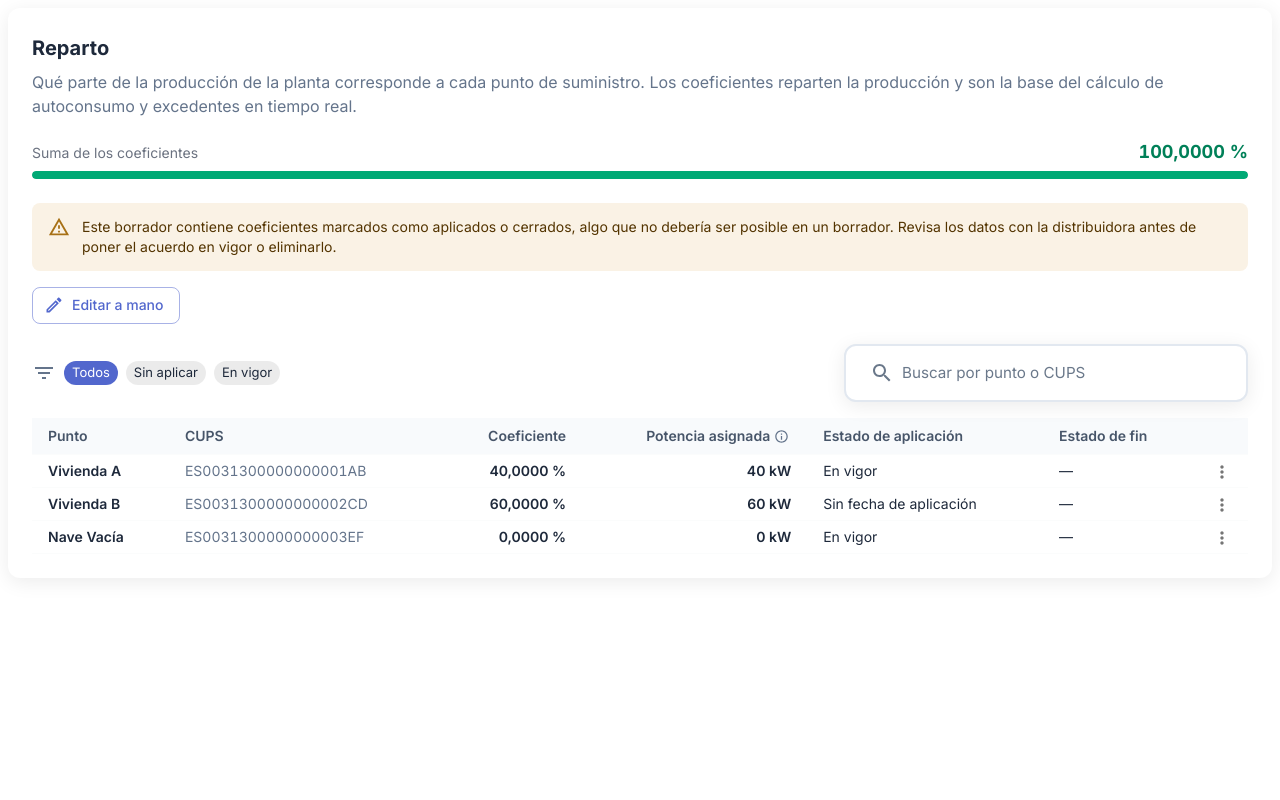
Scenario: SharingAgreementCoefficientSet (DRAFT editing) › UI-AGR-001 typing a value updates the live sum before anything is saved
The image size is (1280, 800).
Click the button "Editar a mano" at coordinates (106, 305), box [32,287,180,324]
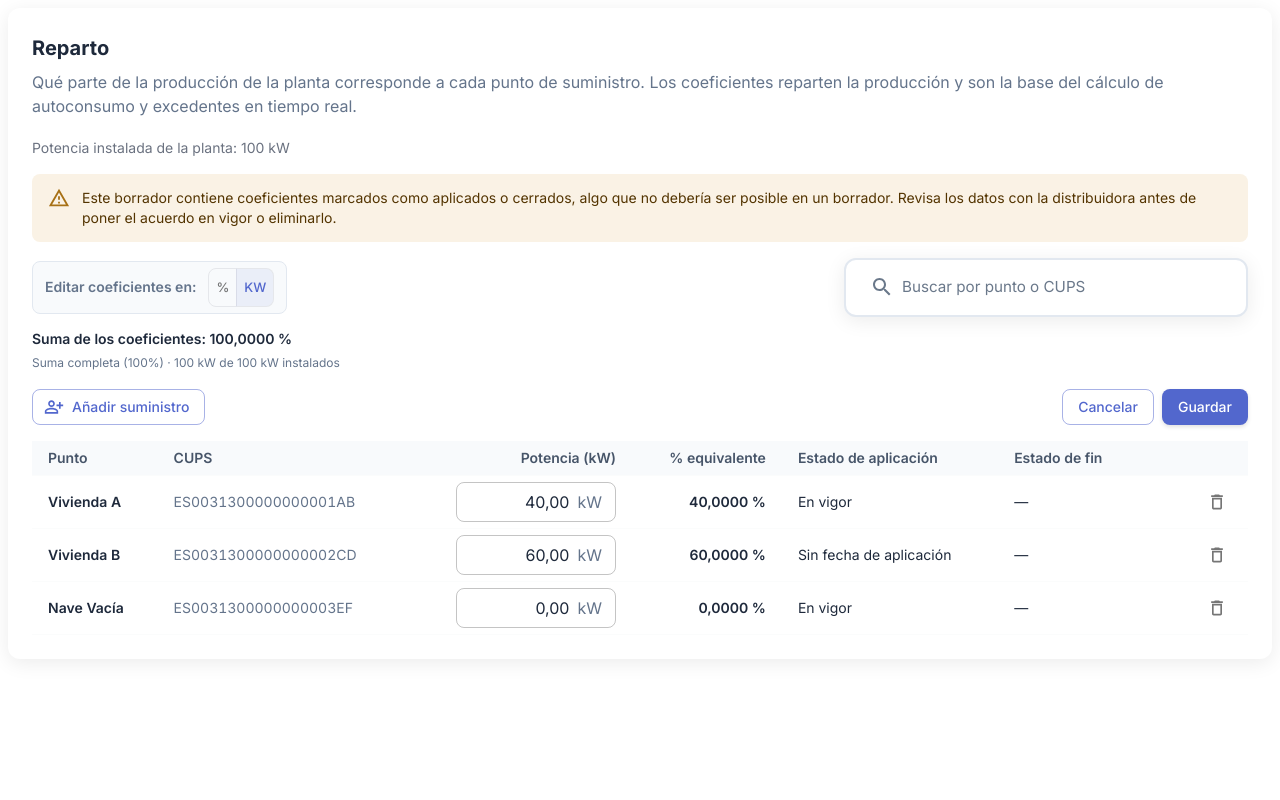
Result: the text "Suma de los coeficientes: 100,0000 %" is shown at [32,330,292,347]
Replace the text in the field with placeholder "0,00" in the row of "Vivienda B" with "50" at coordinates (513, 555), box [456,535,570,575]
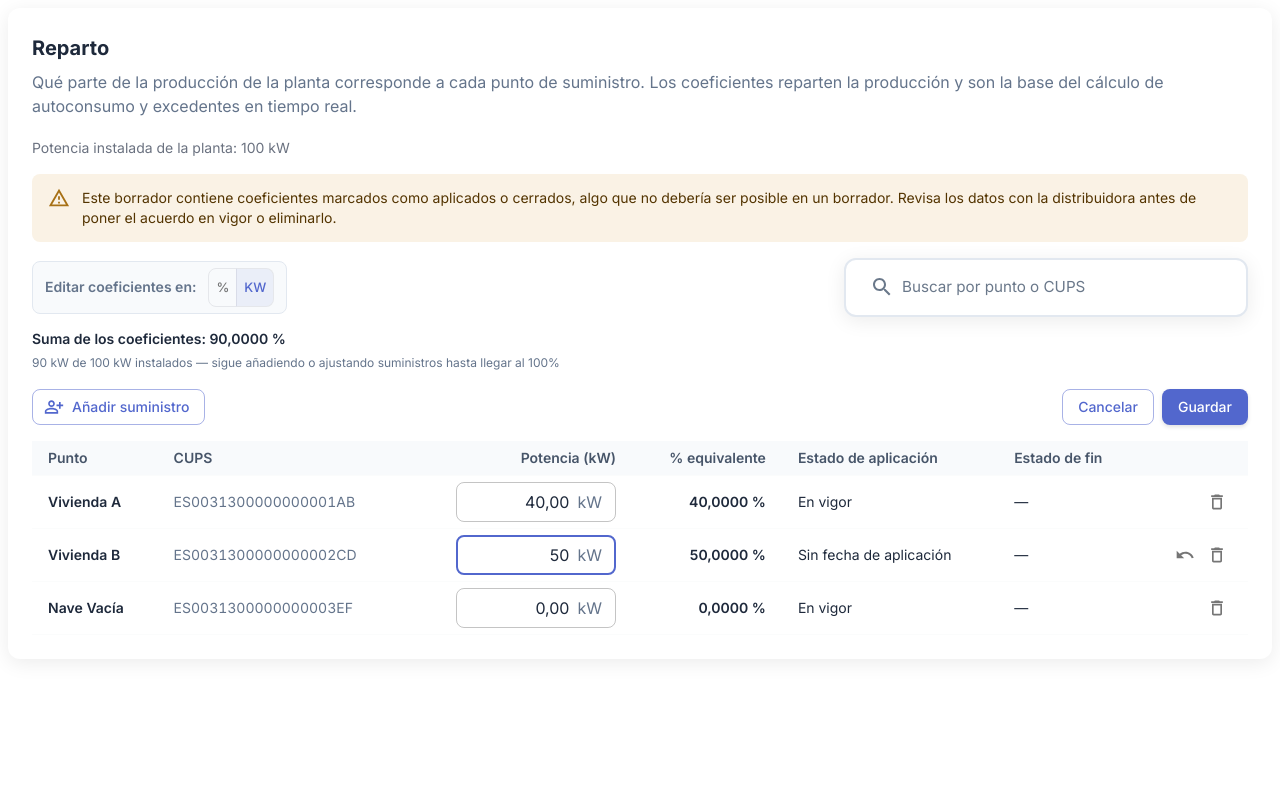
Result: the text "Suma de los coeficientes: 90,0000 %" is shown at [32,330,286,347]
